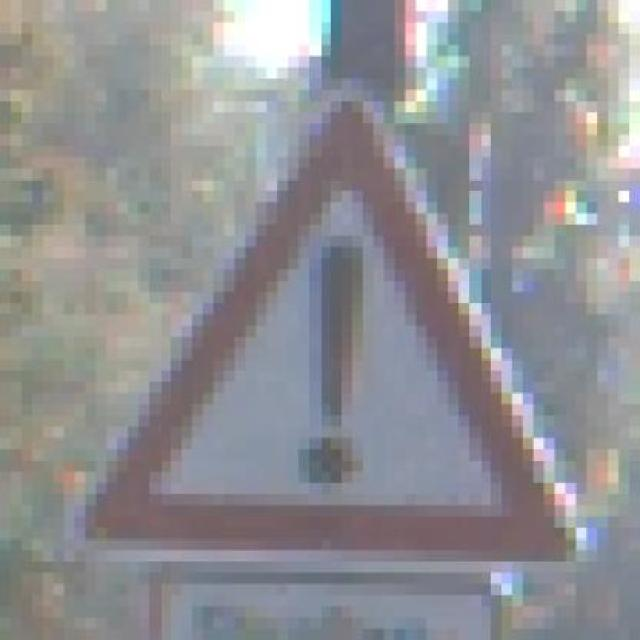Attention Please-: (64, 55, 587, 596)
